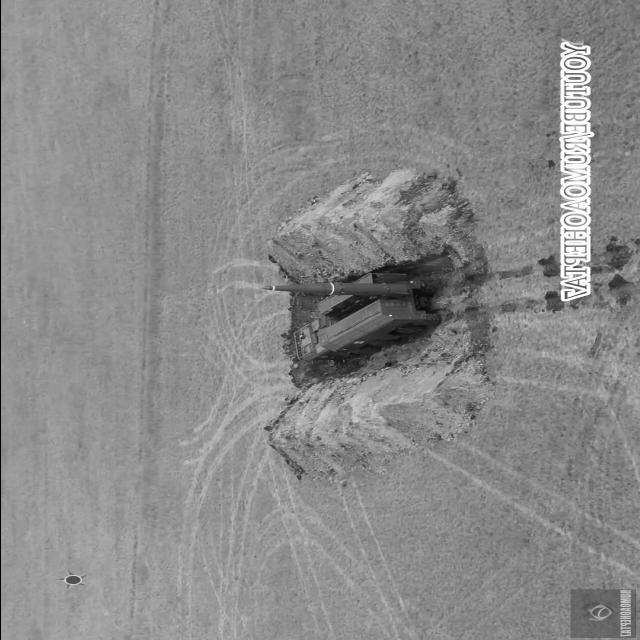missile: (254, 279, 426, 299)
